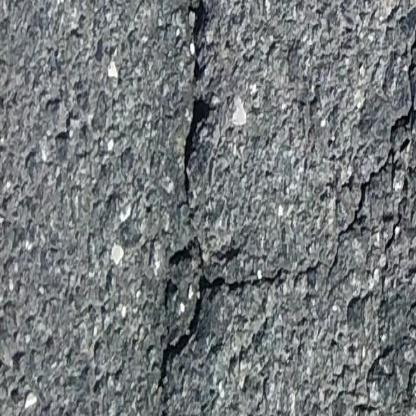Cracks: (157, 236, 287, 391), (337, 146, 398, 241), (181, 95, 214, 196), (186, 0, 209, 85)
